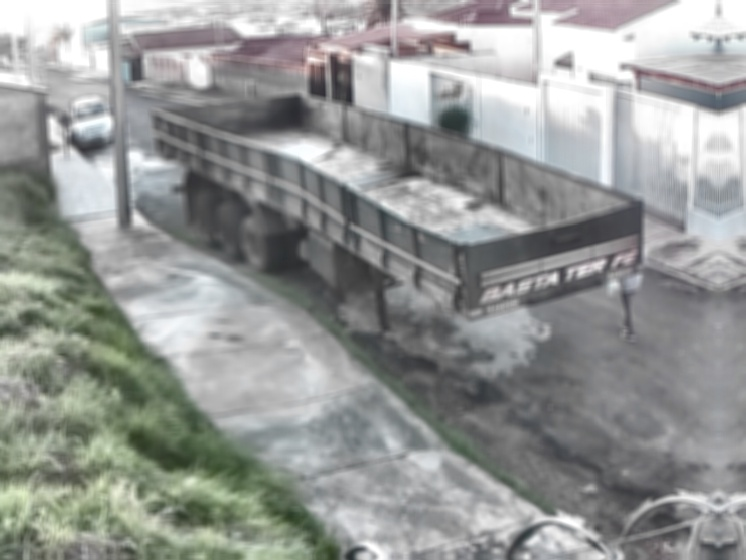person: (612, 271, 647, 346)
